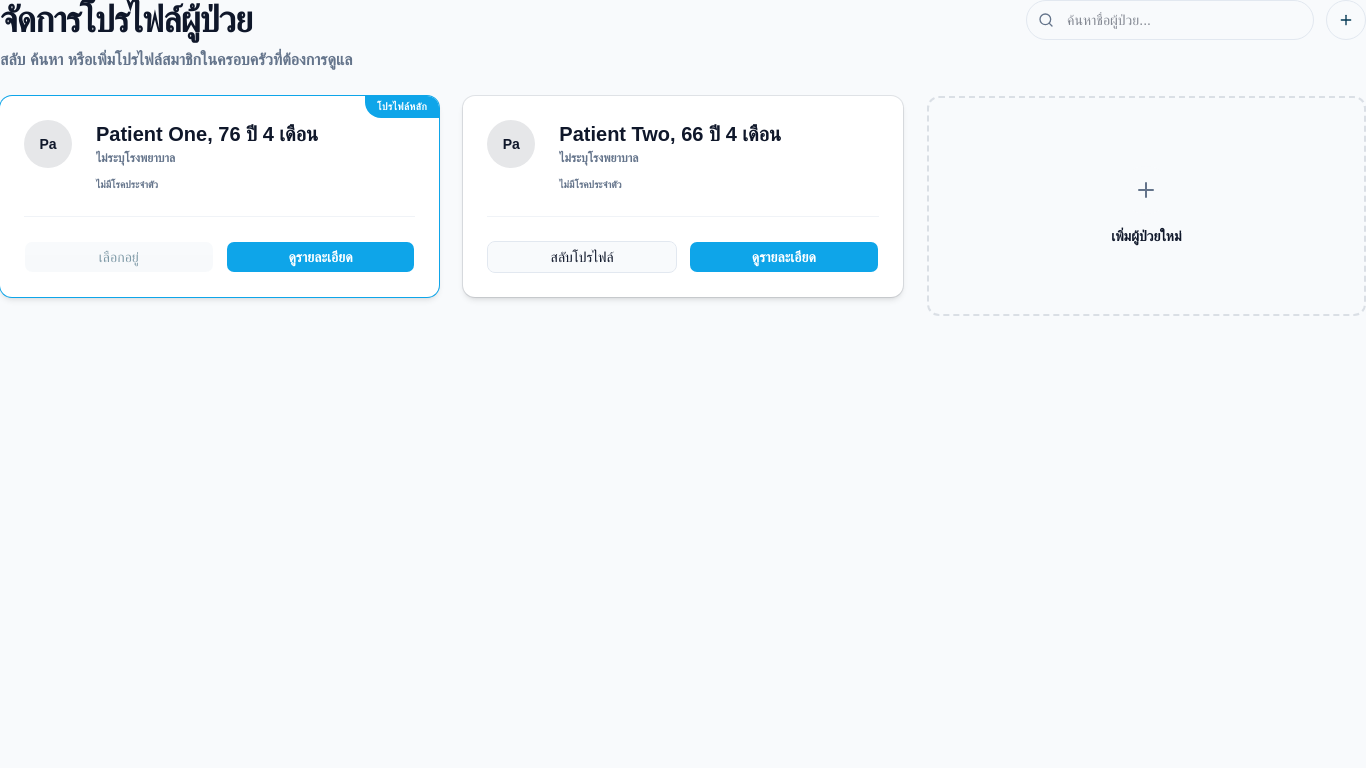
PatientsManager › opens add patient dialog when clicking the button
The width and height of the screenshot is (1366, 768).
# Wait for loading to finish and find the "Add" button
Click the button "เพิ่มผู้ป่วยใหม่".
click(1146, 206)  # box [927,96,1365,316]
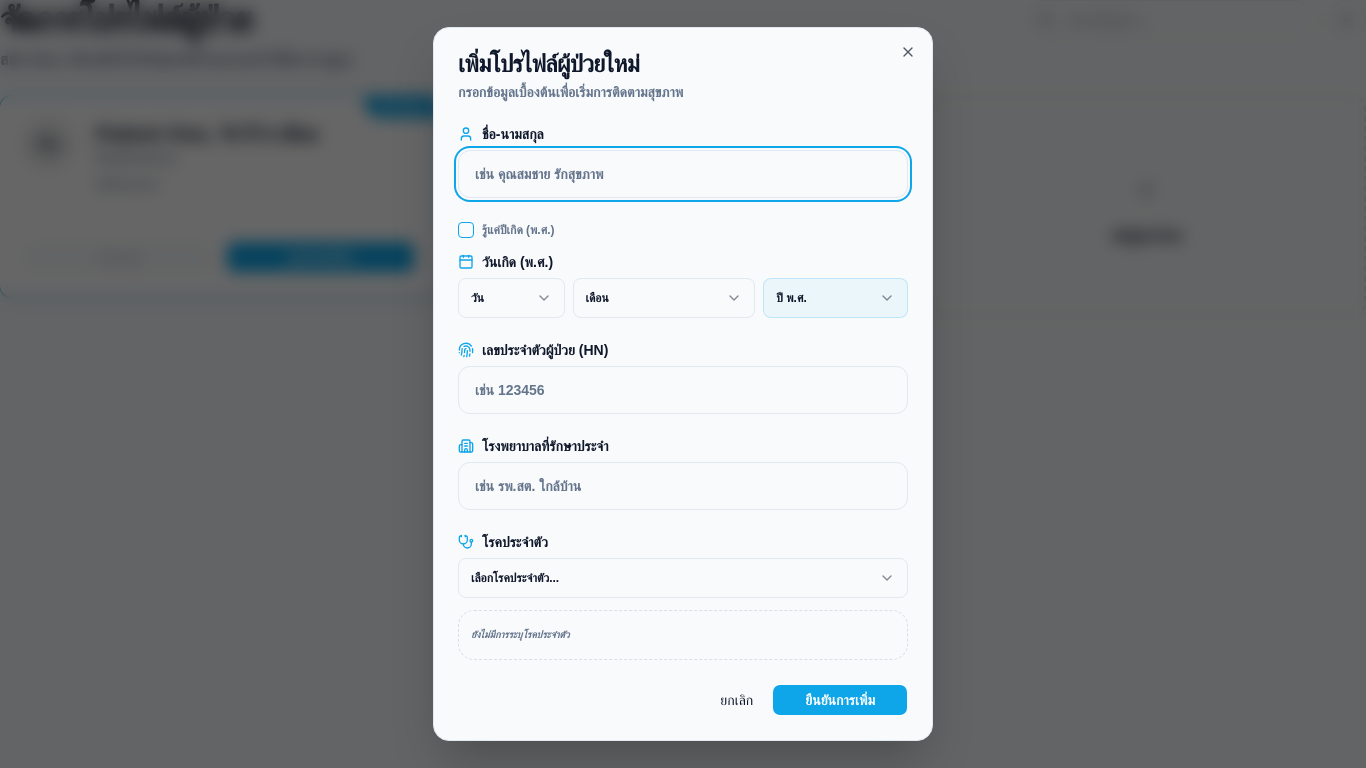
Now the heading "เพิ่มโปรไฟล์ผู้ป่วยใหม่" is shown, box [458,50,639,77]
